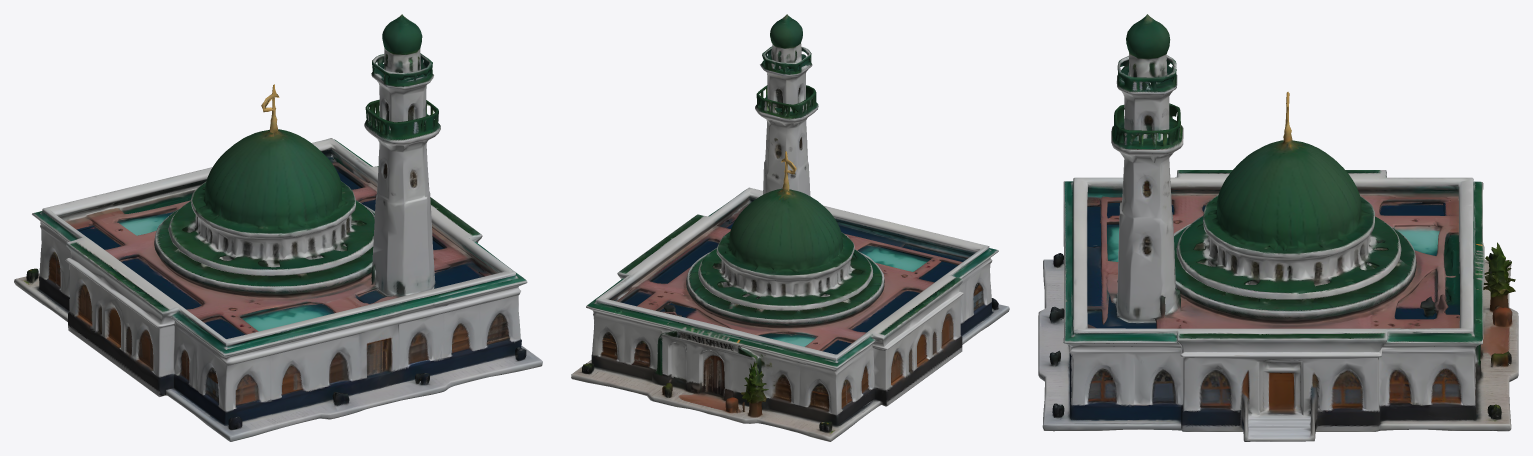
The model's file is mosque.glb.
3 views of the same model, side by side, from view 1: azimuth 30°, elevation 25°; view 2: azimuth 150°, elevation 25°; view 3: azimuth 270°, elevation 25° (orthographic). The views are drawn at different scales.
Parts seen in each view (by area): view 1: tripo_node_bc50b514-8e0b-489a-9504-cd9d0e636de2; view 2: tripo_node_bc50b514-8e0b-489a-9504-cd9d0e636de2; view 3: tripo_node_bc50b514-8e0b-489a-9504-cd9d0e636de2.
Part boxes in pixels (left/top/right/bottom): tripo_node_bc50b514-8e0b-489a-9504-cd9d0e636de2: left=14, top=14, right=542, bottom=441; tripo_node_bc50b514-8e0b-489a-9504-cd9d0e636de2: left=571, top=14, right=1009, bottom=441; tripo_node_bc50b514-8e0b-489a-9504-cd9d0e636de2: left=1038, top=14, right=1518, bottom=441.
Size of the model in its own units: 23.62 by 22 by 26.
Materials: 1 (1 with a texture image).
